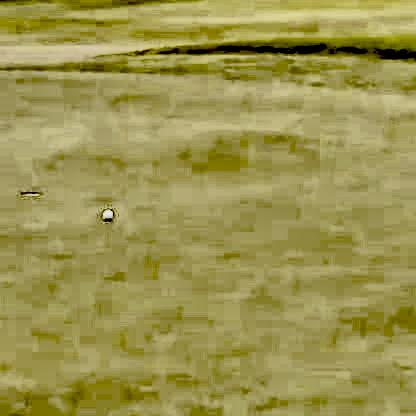golfball: (100, 209, 111, 219)
